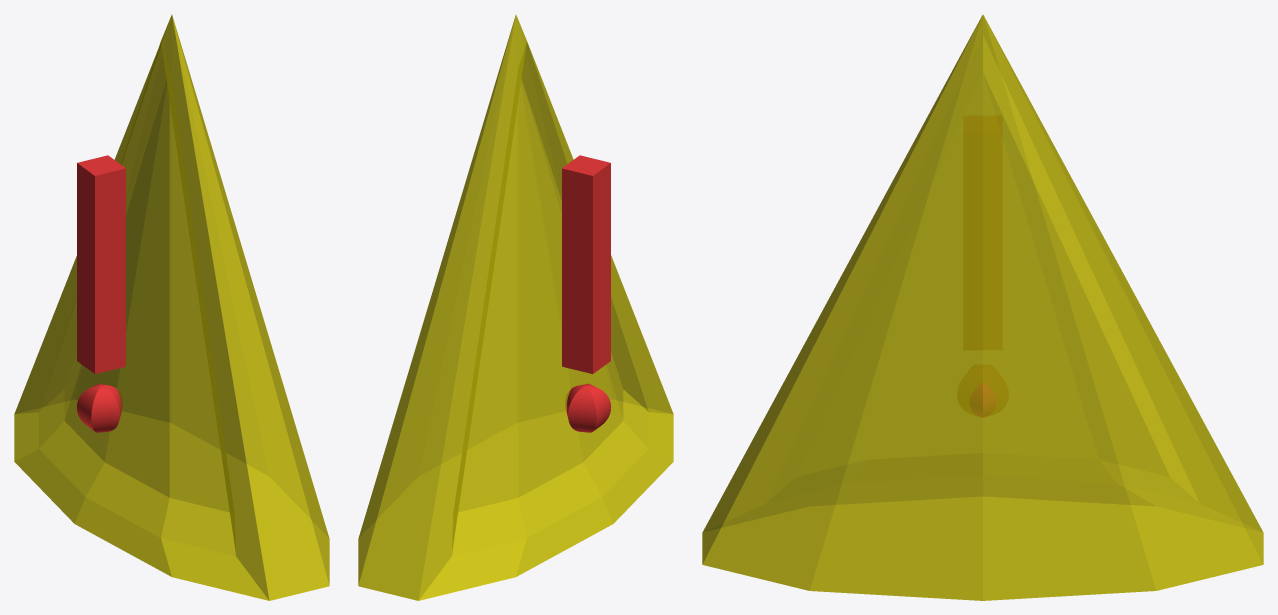
Rendered from Warning.fbx.
3 views of the same model, side by side, from view 1: azimuth 30°, elevation 25°; view 2: azimuth 150°, elevation 25°; view 3: azimuth 270°, elevation 25° (orthographic). The views are drawn at different scales.
Parts seen in each view (by area): view 1: pCone17; view 2: pCone17; view 3: pCone17.
Boxes of the visible parts, bbox=[...] form: pCone17: bbox=[14, 14, 329, 600]; pCone17: bbox=[358, 14, 673, 600]; pCone17: bbox=[702, 14, 1263, 600].
Bounding box in the file's own units: 1.43 × 3.41 × 3.24.
